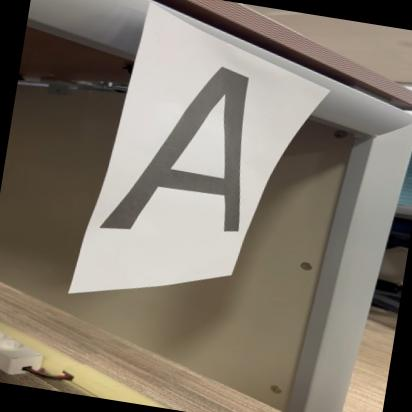seat: (99, 42, 268, 258)
